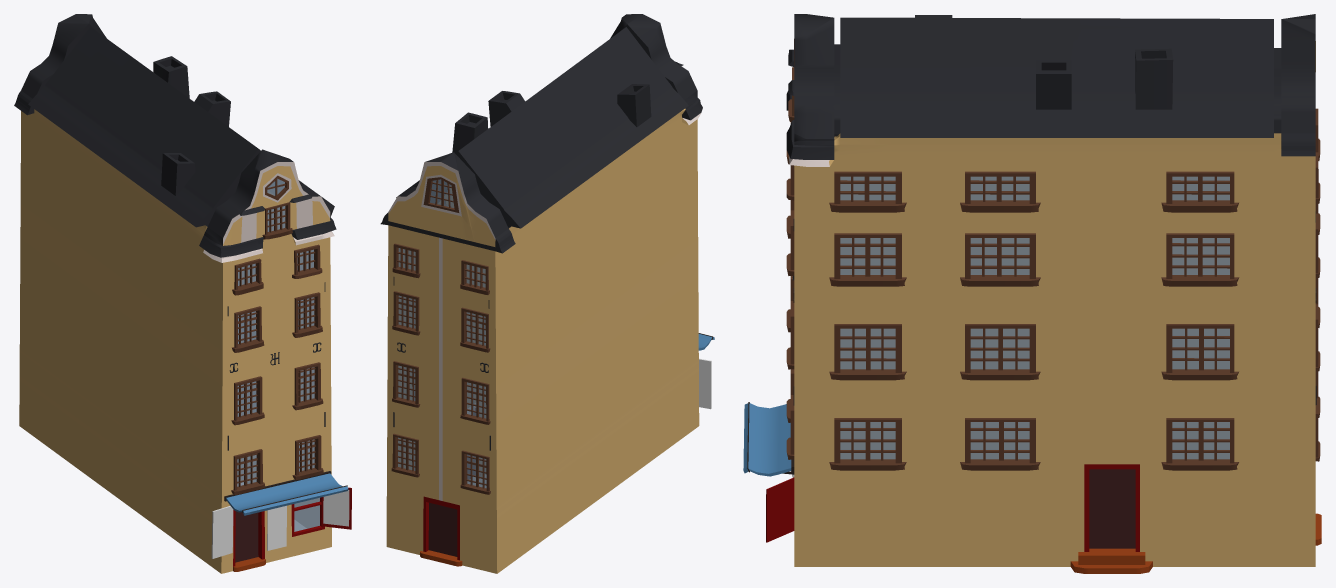
File: Hus_5.fbx
3 renders of one model, left to right at view 1: azimuth 30°, elevation 25°; view 2: azimuth 150°, elevation 25°; view 3: azimuth 270°, elevation 25°, orthographic. The views are drawn at different scales.
Parts seen in each view (by area): view 1: pCube85; view 2: pCube85; view 3: pCube85.
Part boxes in pixels (left/top/right/bottom): pCube85: left=14, top=14, right=351, bottom=573; pCube85: left=380, top=14, right=714, bottom=573; pCube85: left=743, top=14, right=1321, bottom=573.
Size of the model in its own units: 95.12 by 274 by 278.
